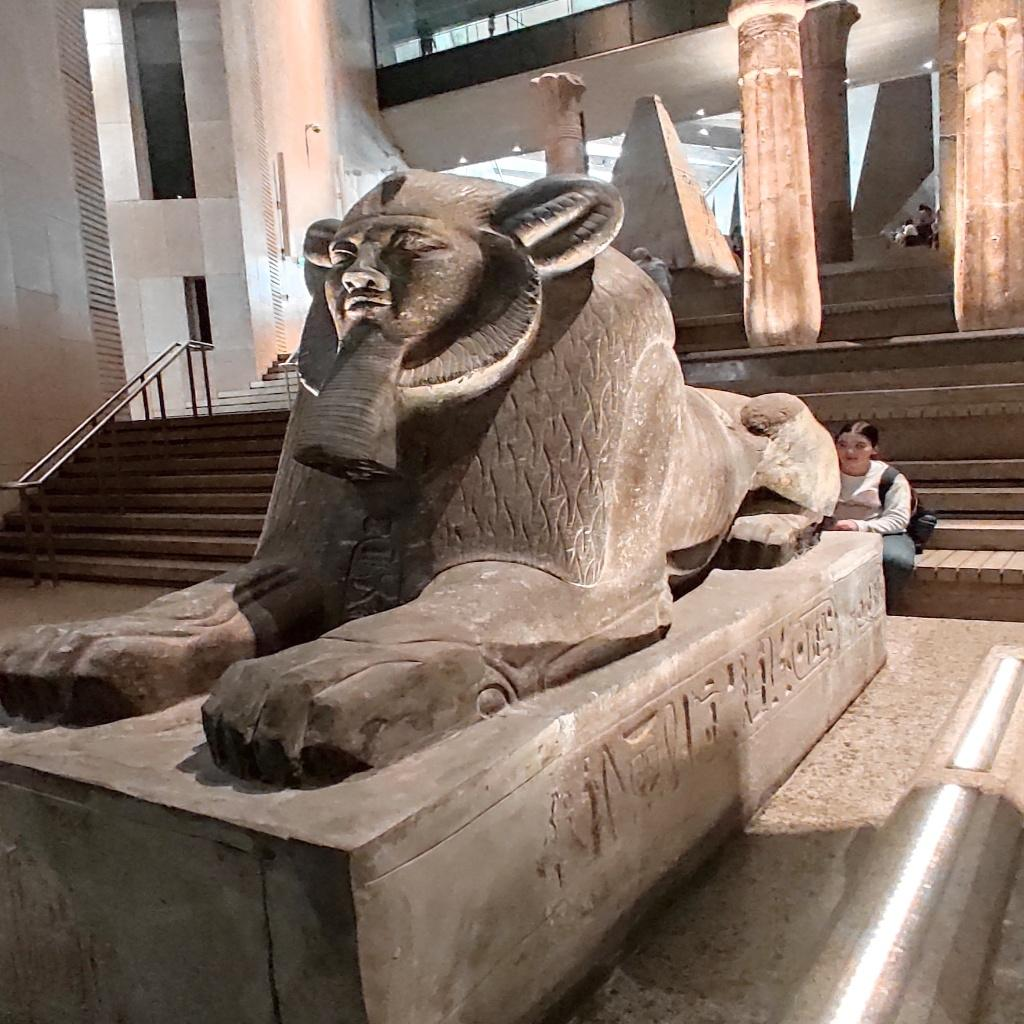Sphinx of Amenmhat III: (172, 164, 746, 784)
